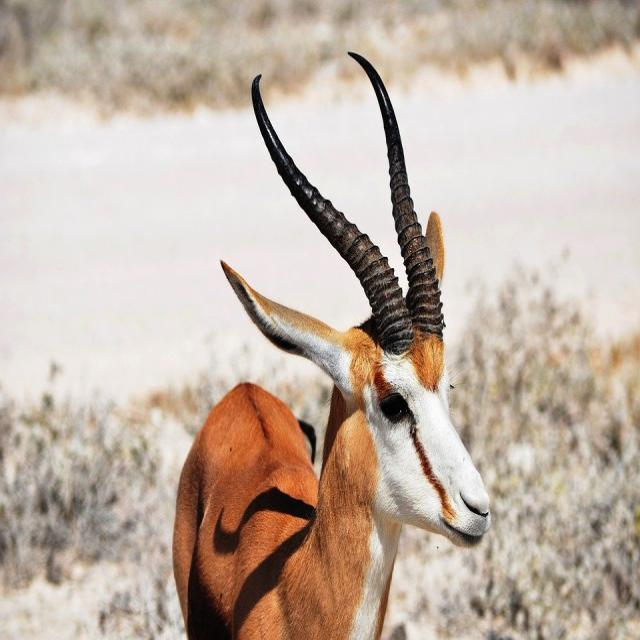Antelope: (163, 41, 495, 640)
